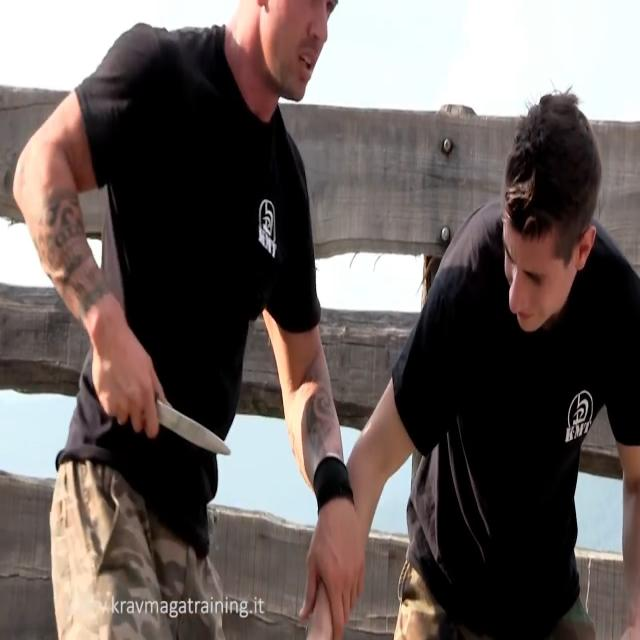knife: (161, 393, 235, 469)
